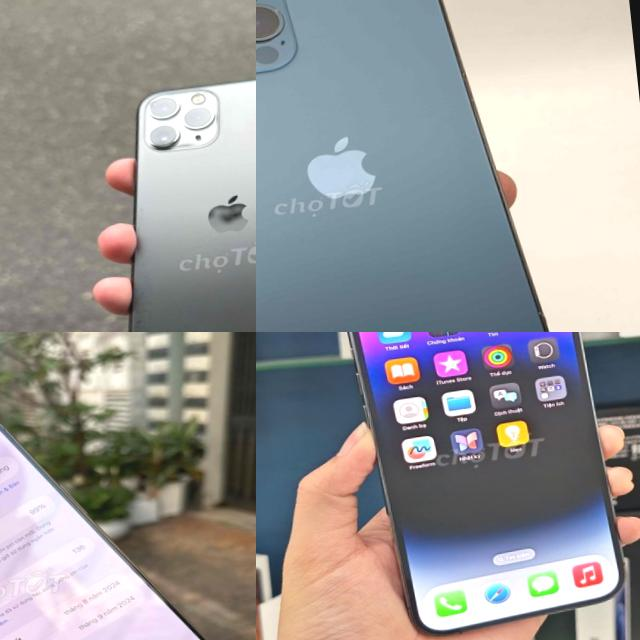gen_11: (90, 69, 256, 332)
gen_12_13: (256, 0, 565, 332)
gen_14: (333, 332, 640, 640)
gen_16: (0, 383, 248, 640)
